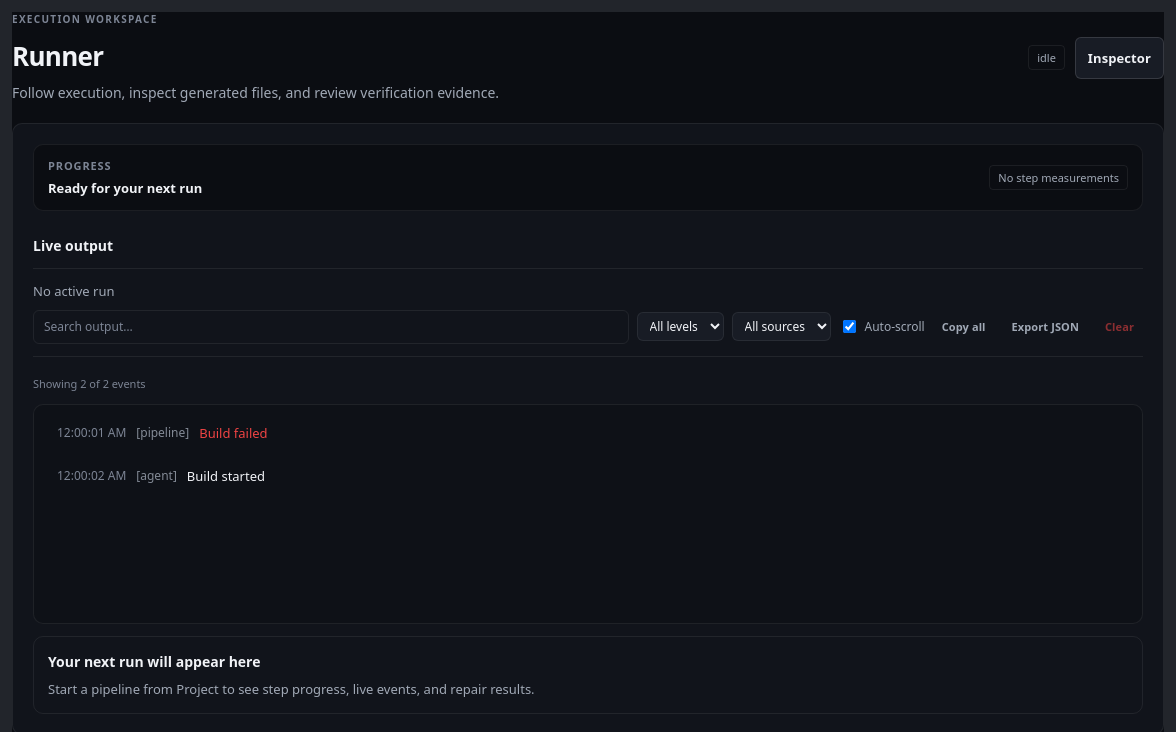
Test: RunnerView operational clarity › combines text search, source and severity filters
Type "BUILD" into the field labelled "Search output" at (331, 327), box [33, 310, 628, 344]
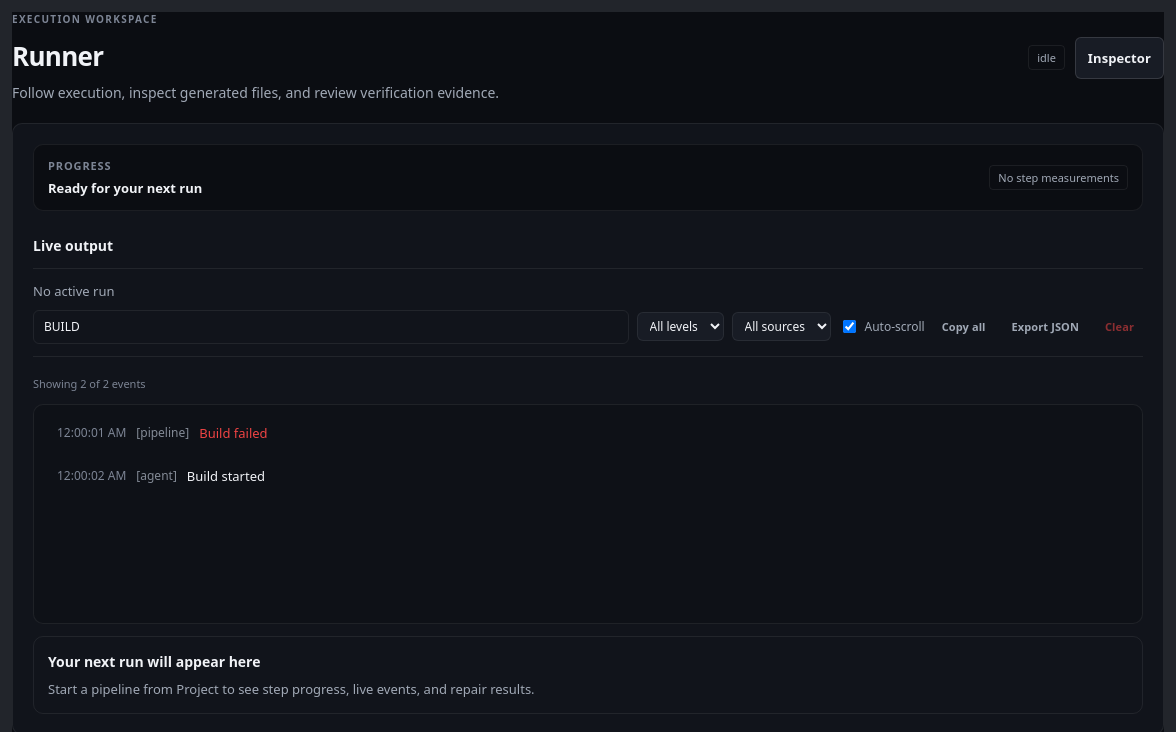
Select "Error" in the dropdown named "Filter by level" at (680, 327), box [636, 312, 724, 341]
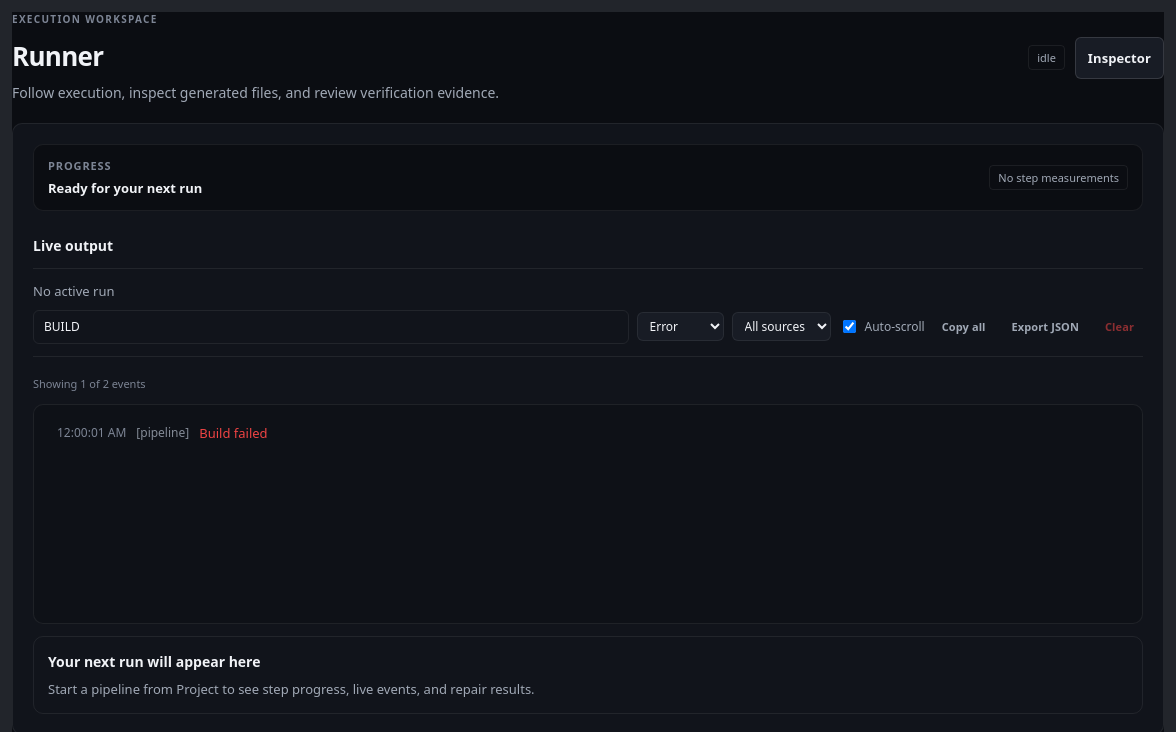
Expected: the text "Build failed" is shown, [199, 424, 268, 442]
Result: the text "Build started" is gone
Select "agent" in the dropdown named "Filter by source" at (781, 327), box [732, 312, 830, 341]
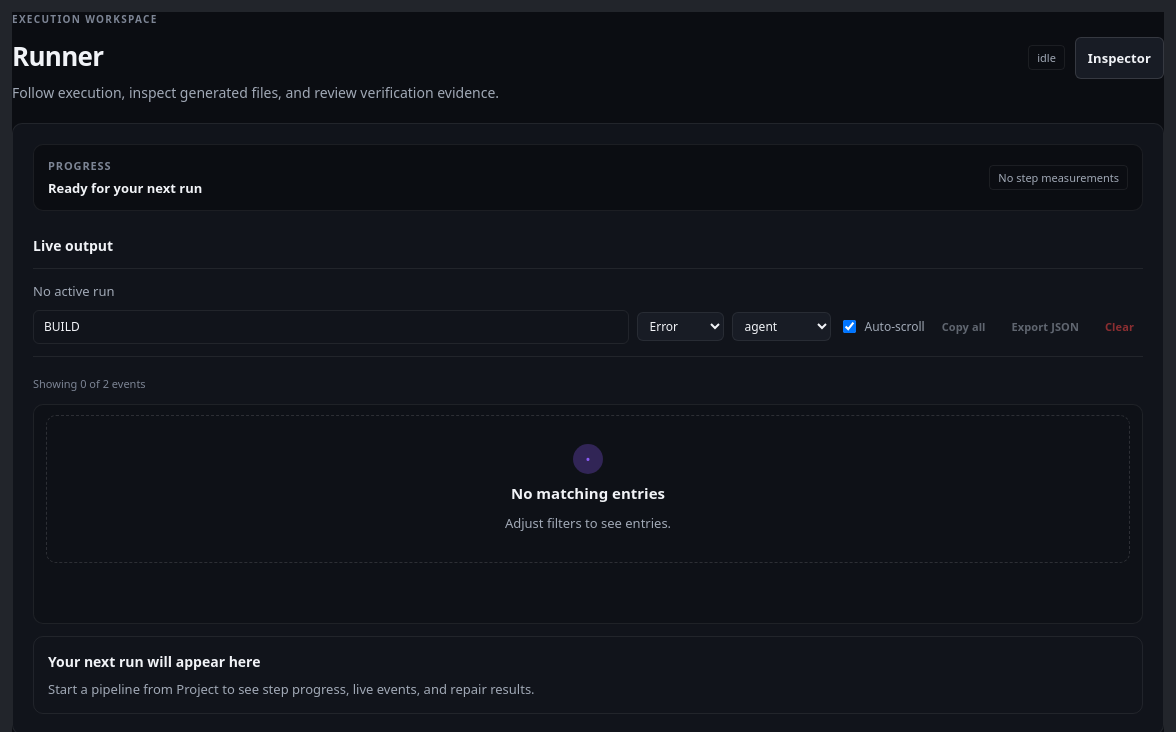
Result: the text "No matching entries" is shown at [511, 482, 665, 505]
